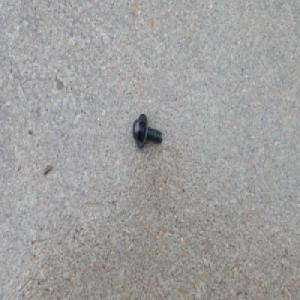BoltWasher: (130, 113, 161, 150)
